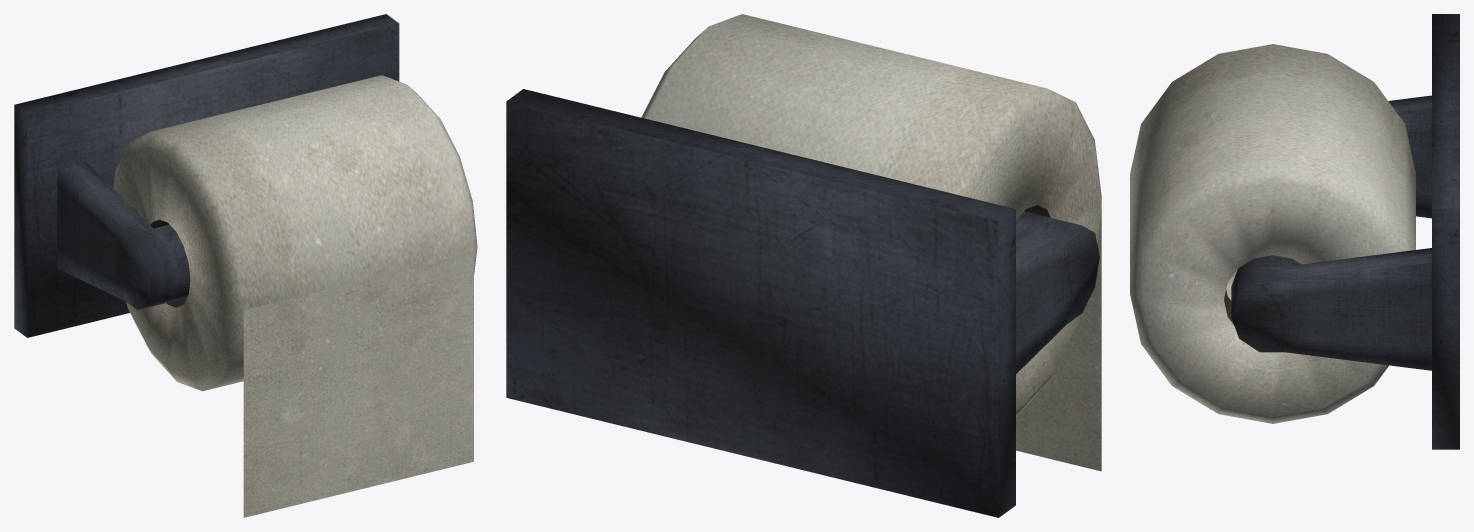
File: FPH_ToiletPaper.fbx
The picture shows the model from 3 angles, left to right: view 1: azimuth 30°, elevation 25°; view 2: azimuth 150°, elevation 25°; view 3: azimuth 270°, elevation 25°; orthographic projection. The views are drawn at different scales.
Parts seen in each view (by area): view 1: FPH_ToiletPaper; view 2: FPH_ToiletPaper; view 3: FPH_ToiletPaper.
Boxes of the visible parts, x1,y1,x2,y2 form: FPH_ToiletPaper: (14,14,477,517); FPH_ToiletPaper: (506,14,1101,517); FPH_ToiletPaper: (1130,14,1459,449).
Bounding box in the file's own units: 1.14 × 0.9664 × 0.8179.
Materials: 1 (1 with a texture image).
